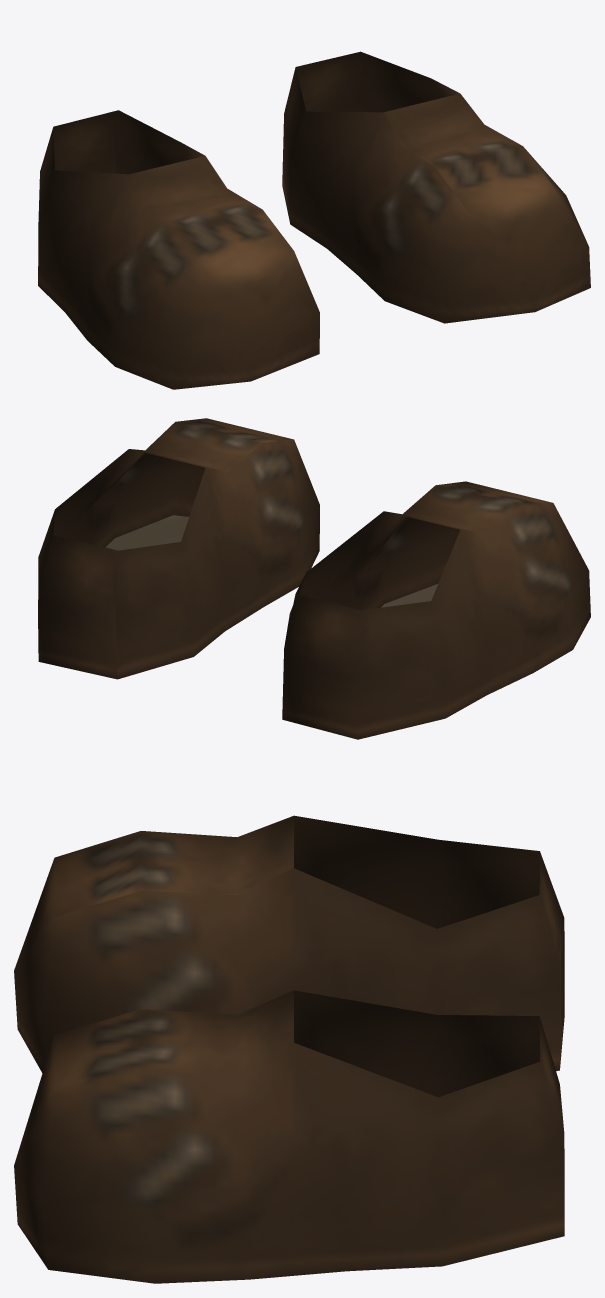
Rendered from hum_light_g_fbb977d4.glb.
The picture shows the model from 3 angles, top to bottom: view 1: azimuth 30°, elevation 25°; view 2: azimuth 150°, elevation 25°; view 3: azimuth 270°, elevation 25°; orthographic projection. The views are drawn at different scales.
Bounding box in the file's own units: 0.6361 × 0.2246 × 0.4937.
1 material, 1 textured.
